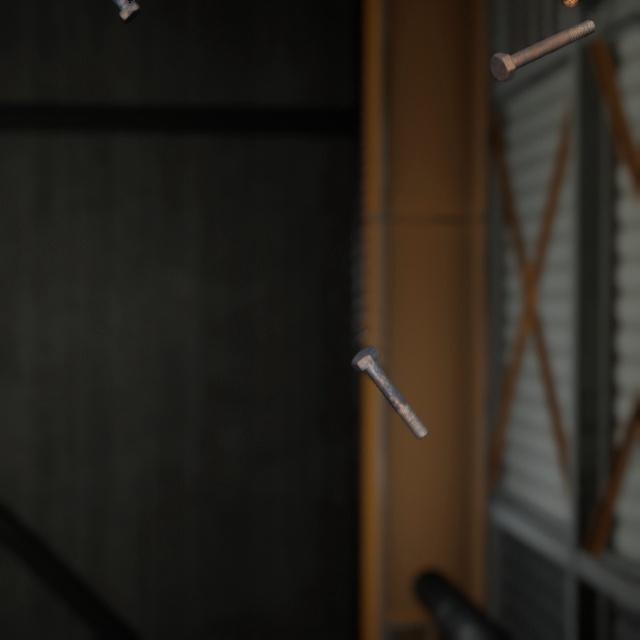bolt: (346, 323, 433, 425), (485, 6, 599, 76), (111, 0, 144, 23)
